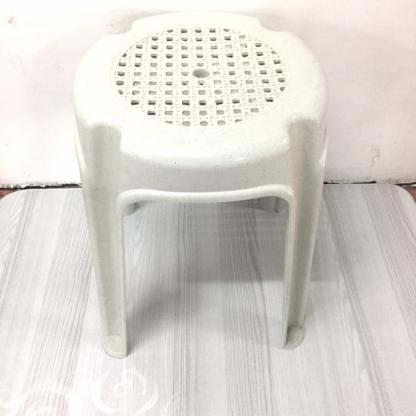chair: (72, 11, 320, 366)
